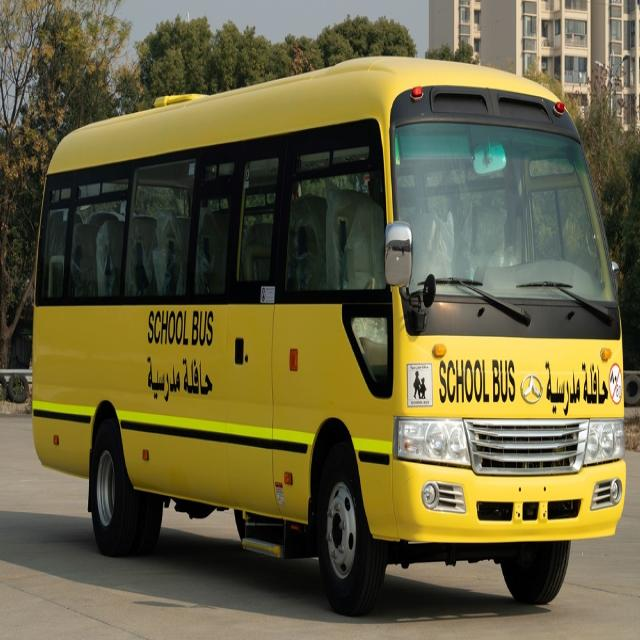bus: (32, 56, 625, 603)
